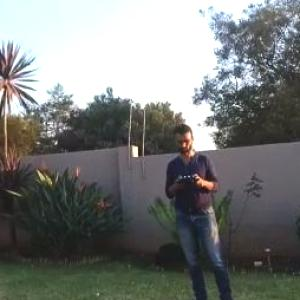follow: (162, 117, 246, 299)
